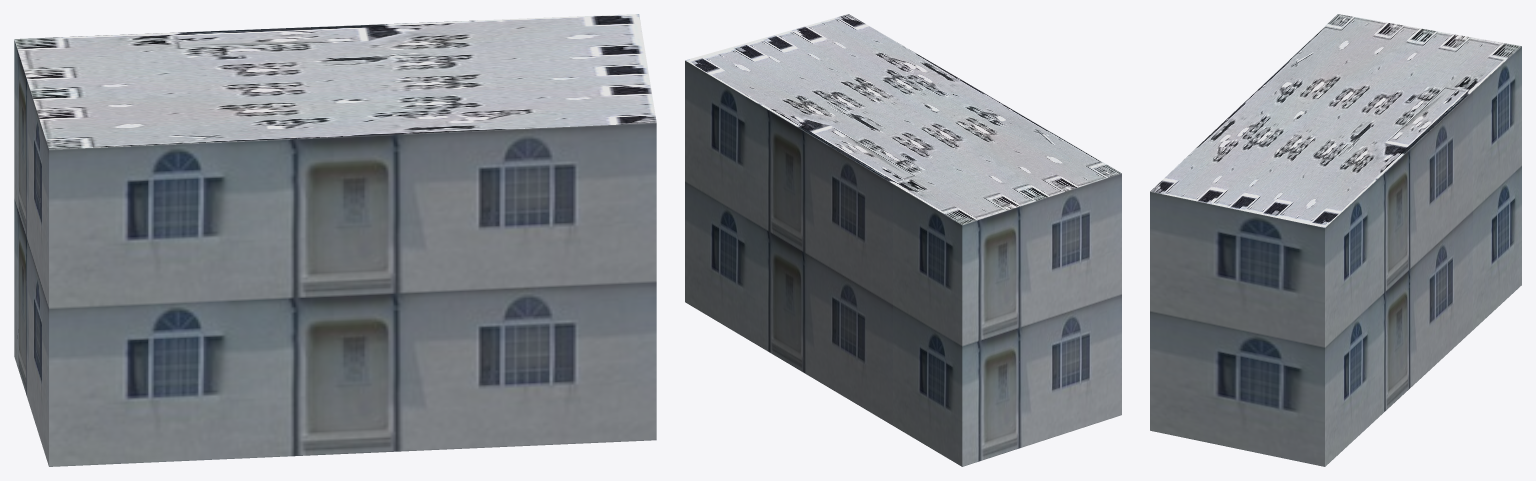
The model's file is ResTex__568.fbx.
The picture shows the model from 3 angles, left to right: view 1: azimuth 30°, elevation 25°; view 2: azimuth 150°, elevation 25°; view 3: azimuth 270°, elevation 25°; orthographic projection. The views are drawn at different scales.
Visible parts, largest first — view 1: CityEngineMaterial_17_m, CityEngineMaterial_m; view 2: CityEngineMaterial_17_m, CityEngineMaterial_m; view 3: CityEngineMaterial_17_m, CityEngineMaterial_m.
Part boxes in pixels (x1,y1,x2,y2): CityEngineMaterial_17_m: [14, 40, 656, 466]; CityEngineMaterial_m: [14, 14, 656, 149]; CityEngineMaterial_17_m: [685, 60, 1121, 466]; CityEngineMaterial_m: [685, 14, 1121, 224]; CityEngineMaterial_17_m: [1150, 46, 1521, 466]; CityEngineMaterial_m: [1150, 14, 1521, 227].
Size of the model in its own units: 11.52 by 6 by 8.46.
2 materials, 2 textured.
